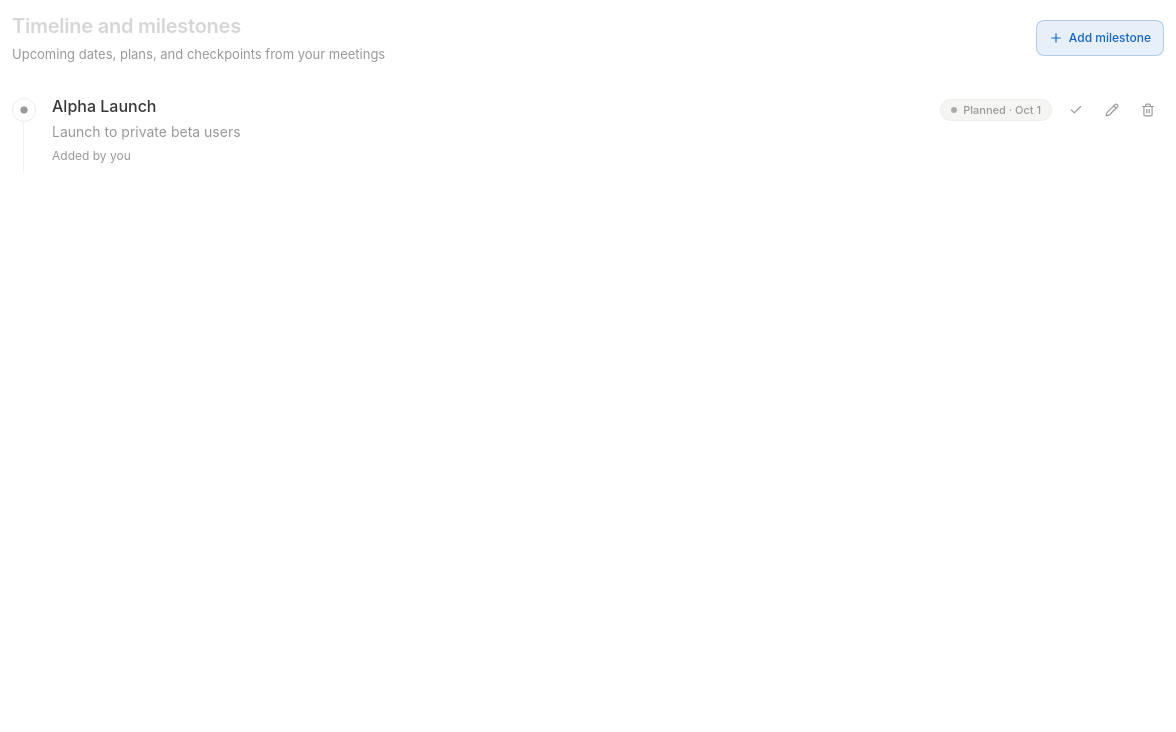
opens composer in edit mode for existing milestones and updates
Later steps or results of the test are not shown.
What coordinates should you click on to do the following:
click the button named "Edit Alpha Launch"
I would click on:
 (1112, 110)
Its box is [1096,94,1128,126].
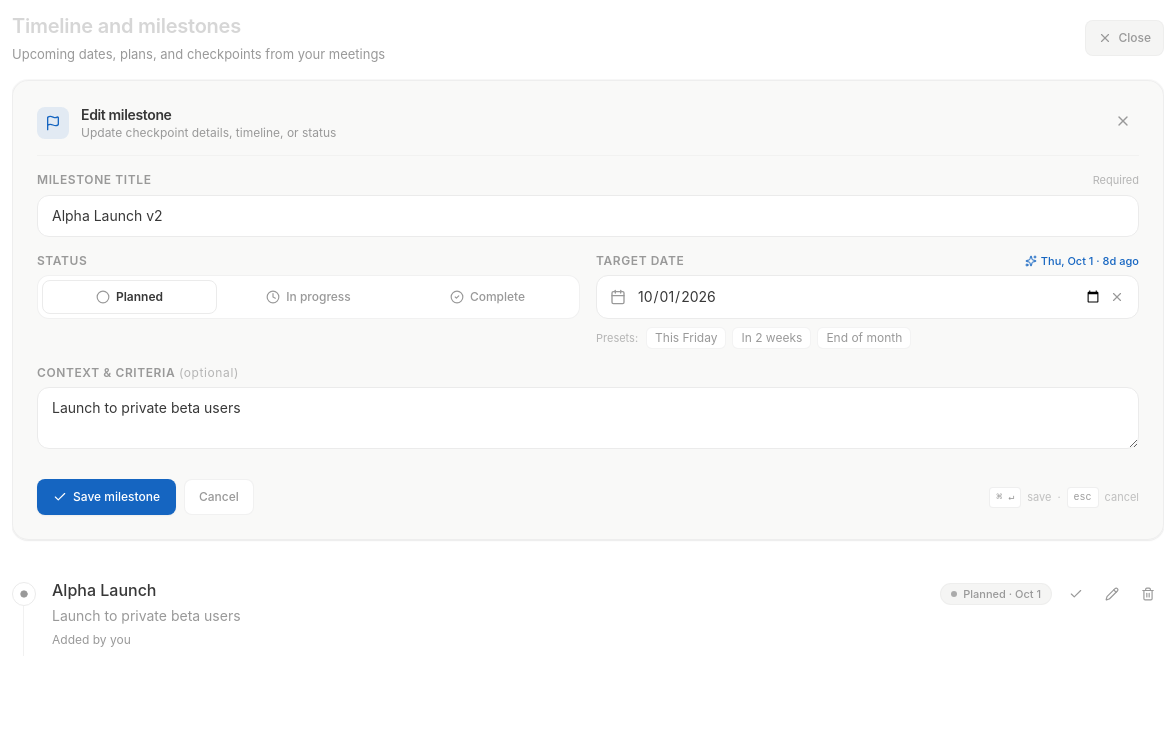
Result: the text "Edit milestone" is shown at [81,106,172,123]
Result: the text "Save milestone" is shown at [73,489,160,505]
